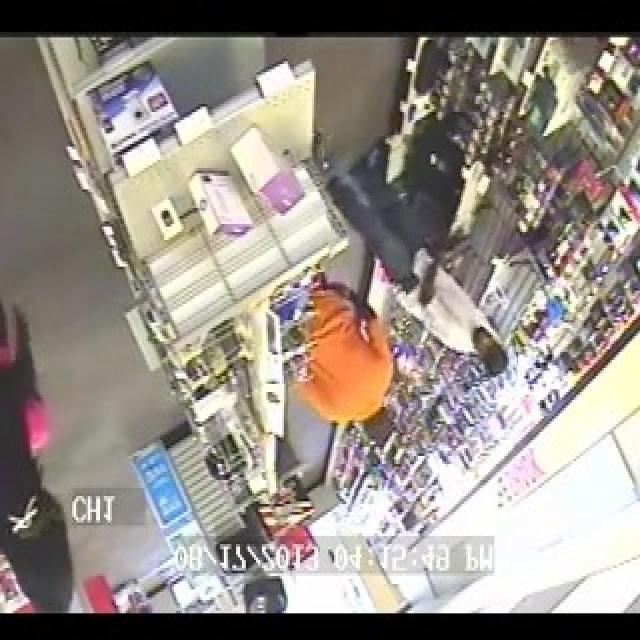Normal: (326, 130, 514, 388), (290, 268, 406, 464)
